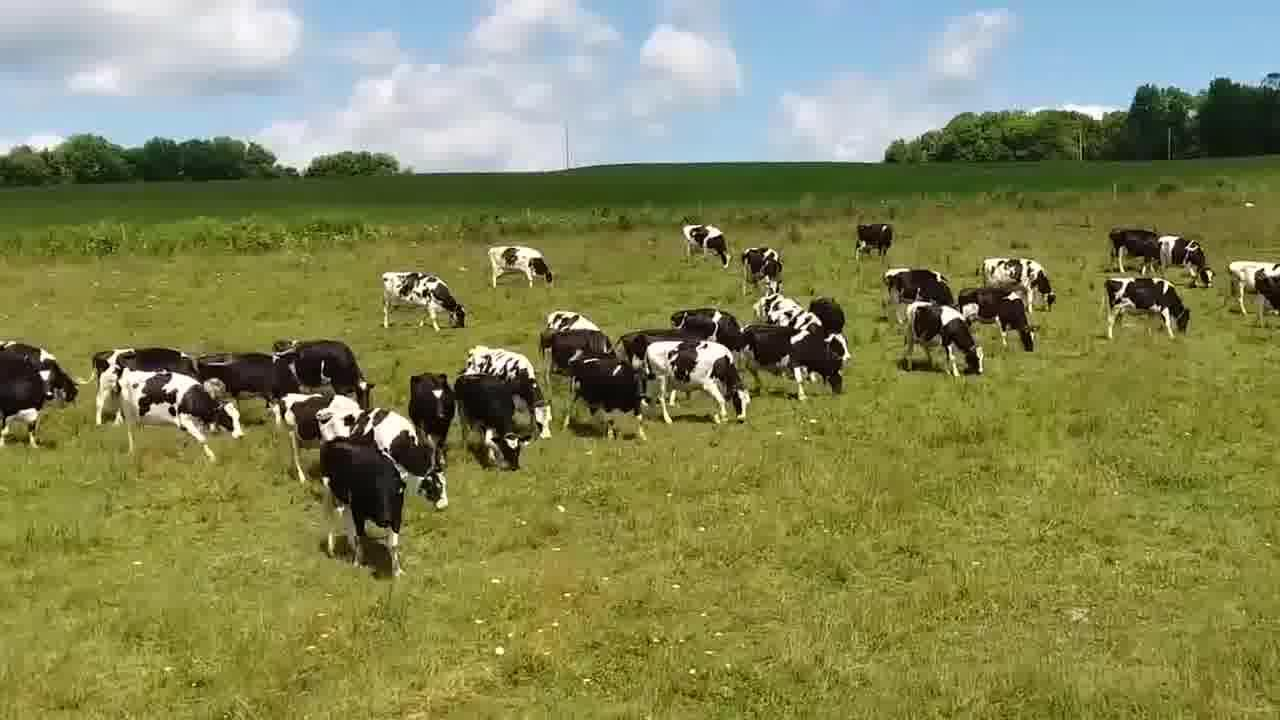cow: (313, 401, 463, 518), (113, 363, 252, 471), (619, 324, 763, 427), (314, 437, 413, 582), (0, 332, 90, 452), (463, 340, 559, 446), (92, 336, 202, 424), (739, 316, 850, 403), (565, 344, 656, 449), (892, 300, 994, 388), (456, 364, 531, 476), (193, 341, 307, 412), (749, 290, 855, 364), (276, 334, 384, 401), (1098, 276, 1201, 343), (955, 284, 1046, 356), (376, 271, 467, 331), (535, 306, 618, 366), (978, 249, 1062, 307), (1157, 228, 1221, 293), (403, 368, 460, 440), (673, 304, 755, 352), (881, 256, 959, 305), (1097, 221, 1167, 275), (486, 245, 560, 293), (1223, 252, 1280, 314), (678, 220, 738, 273), (738, 239, 794, 295), (852, 223, 895, 262)
